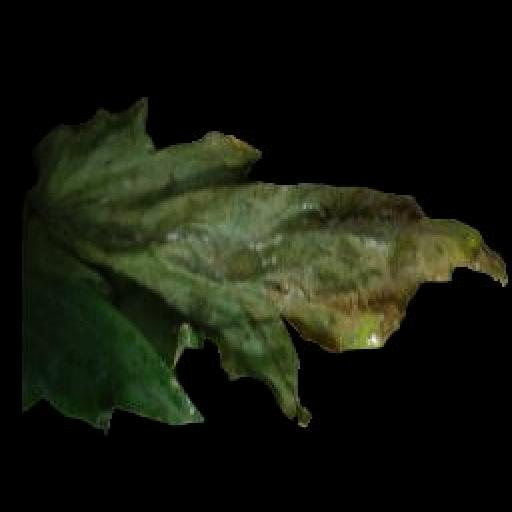disease_tomato: (18, 94, 512, 434)
